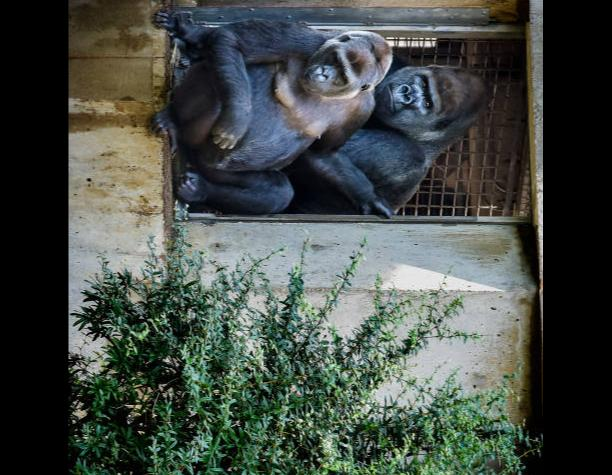gorille_Autres: (152, 0, 396, 216)
